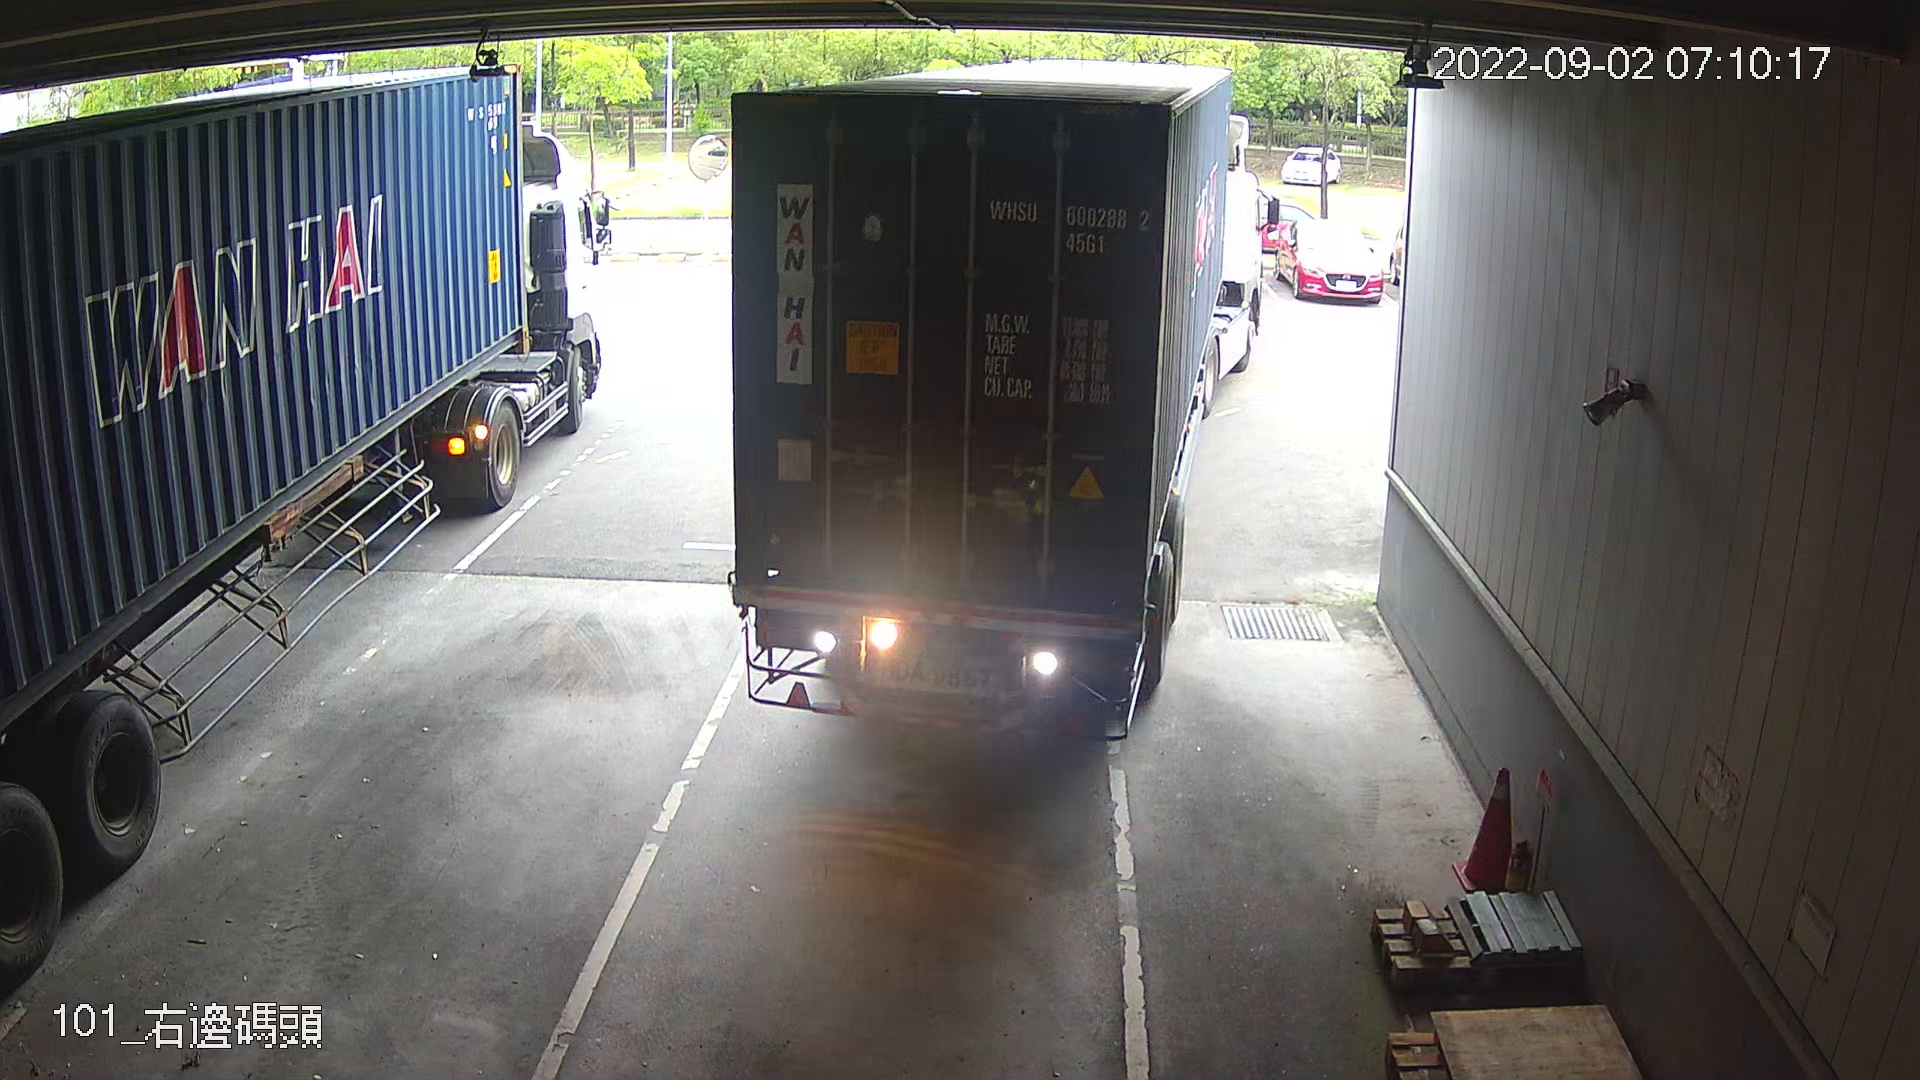container: (982, 185, 1159, 261)
